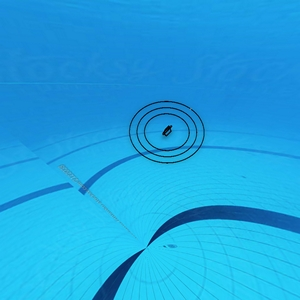circle: (126, 97, 208, 166)
submarine: (163, 125, 174, 138)
